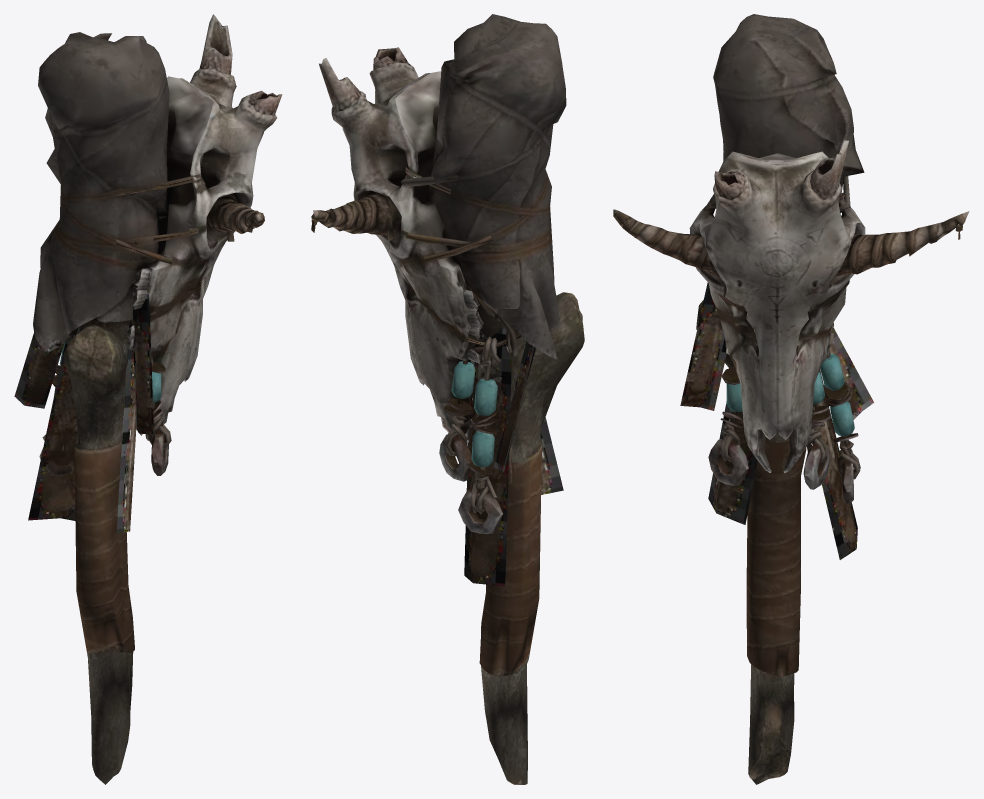
Rendered from skulltorch.worldmodel.glb.
The picture shows the model from 3 angles, left to right: view 1: azimuth 30°, elevation 25°; view 2: azimuth 150°, elevation 25°; view 3: azimuth 270°, elevation 25°; orthographic projection. The views are drawn at different scales.
Visible parts, largest first — view 1: w_torch_LOD0; view 2: w_torch_LOD0; view 3: w_torch_LOD0.
Boxes of the visible parts, left/top/right/bottom form: w_torch_LOD0: left=14, top=14, right=282, bottom=784; w_torch_LOD0: left=311, top=14, right=584, bottom=784; w_torch_LOD0: left=613, top=14, right=969, bottom=784.
Size of the model in its own units: 0.1055 by 0.3547 by 0.1502.
Materials: 1 (1 with a texture image).
